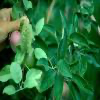Apple leaf: (72, 73, 96, 96), (20, 18, 32, 59), (32, 34, 50, 61), (38, 68, 56, 92), (69, 30, 91, 49), (57, 28, 68, 64), (55, 60, 73, 81), (43, 22, 61, 43), (9, 60, 23, 85), (66, 80, 82, 99), (36, 15, 47, 41), (79, 52, 88, 77), (24, 77, 38, 93)
